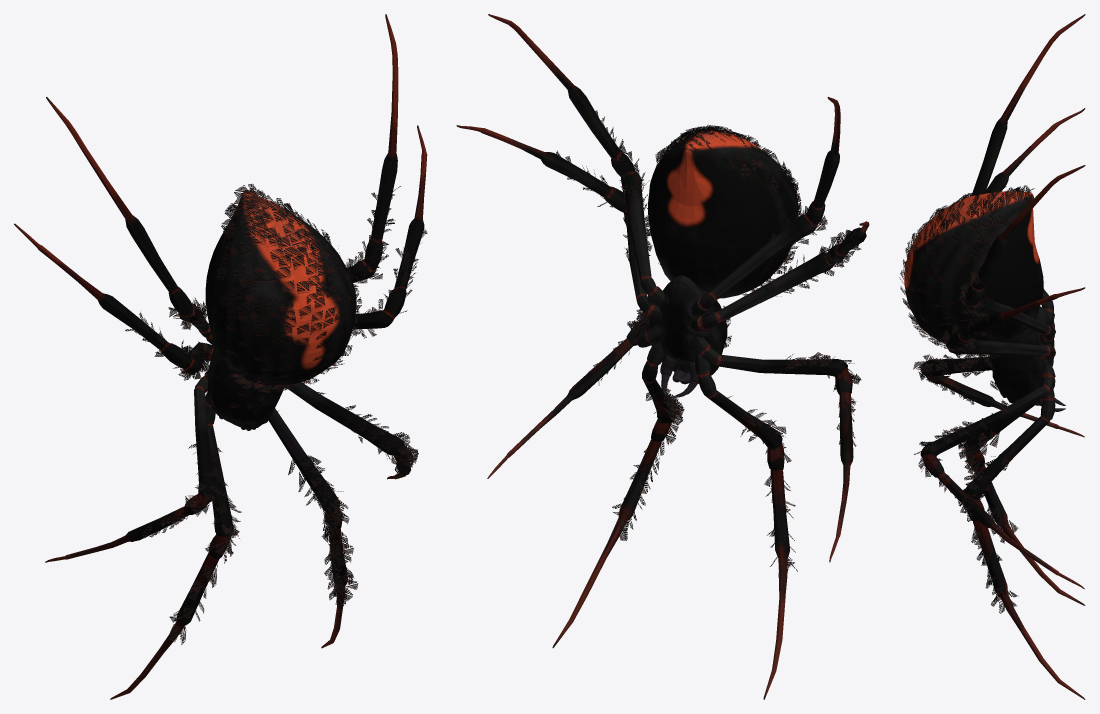
Rendered from spider.obj.
The picture shows the model from 3 angles, left to right: view 1: azimuth 30°, elevation 25°; view 2: azimuth 150°, elevation 25°; view 3: azimuth 270°, elevation 25°; orthographic projection. The views are drawn at different scales.
Parts seen in each view (by area): view 1: Object.1; view 2: Object.1; view 3: Object.1.
Boxes of the visible parts, <box> form: Object.1: <box>14,14,427,699</box>; Object.1: <box>456,14,869,699</box>; Object.1: <box>899,14,1085,699</box>.
Size of the model in its own units: 0.512 by 0.7489 by 0.2253.
Materials: 1 (1 with a texture image).
